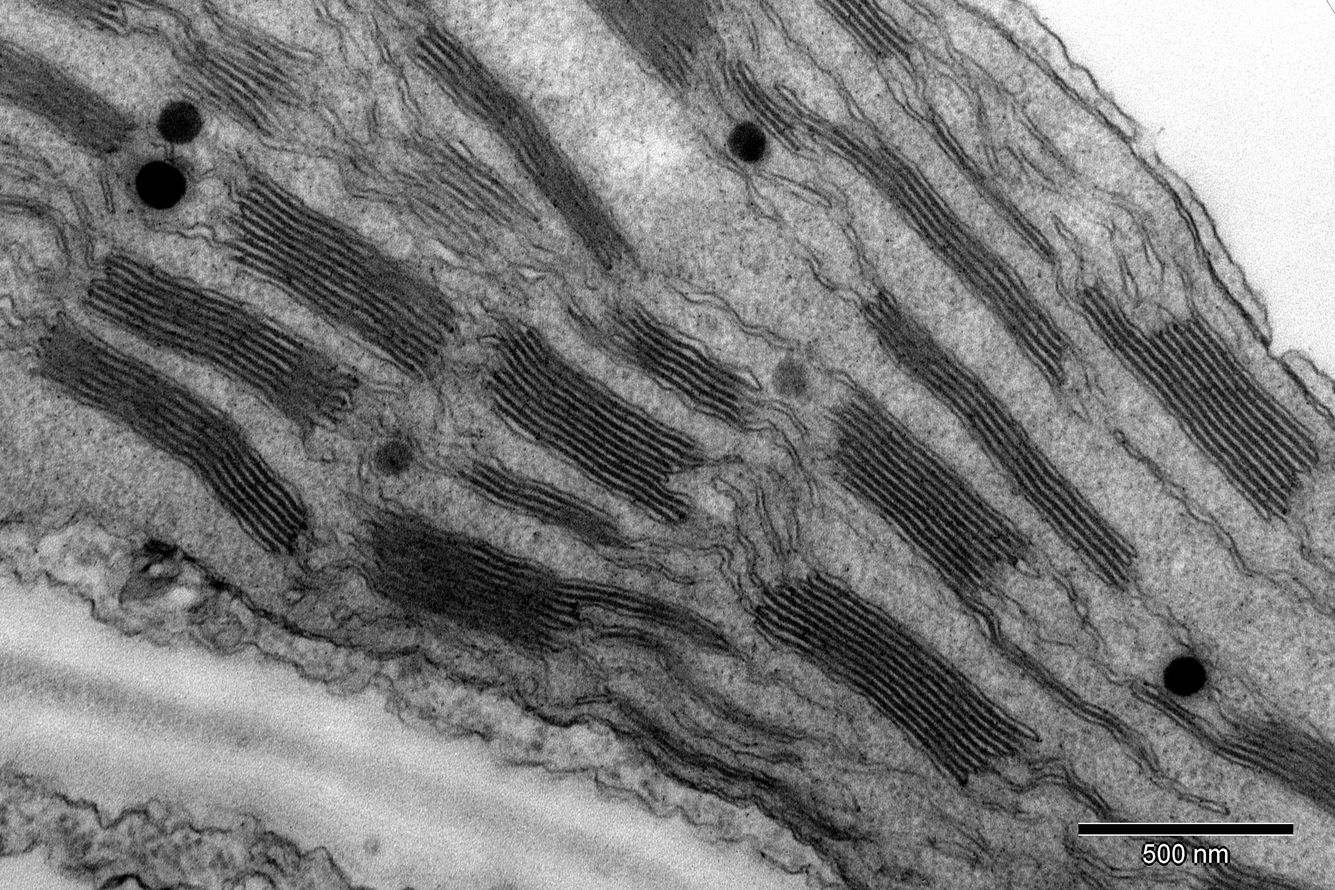granum: (857, 286, 1138, 590), (29, 308, 312, 556), (748, 558, 1041, 792), (810, 120, 1075, 375), (1072, 278, 1320, 525), (402, 19, 637, 272), (81, 244, 365, 440), (455, 316, 707, 529), (371, 505, 725, 655), (820, 377, 1044, 613), (225, 168, 462, 386), (590, 293, 762, 434), (393, 131, 533, 262), (1, 36, 138, 160), (167, 22, 298, 141), (463, 452, 622, 549), (1211, 703, 1334, 819), (582, 0, 728, 95), (215, 10, 310, 81), (812, 0, 919, 63), (721, 60, 800, 144), (1192, 860, 1330, 889)
